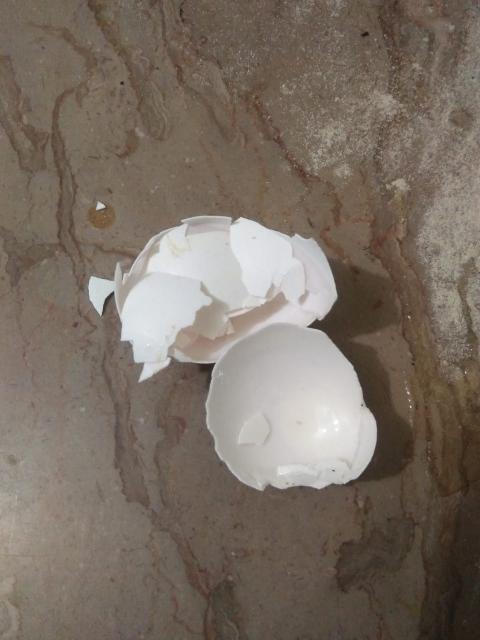Roto: (107, 214, 338, 382), (204, 325, 379, 492)
